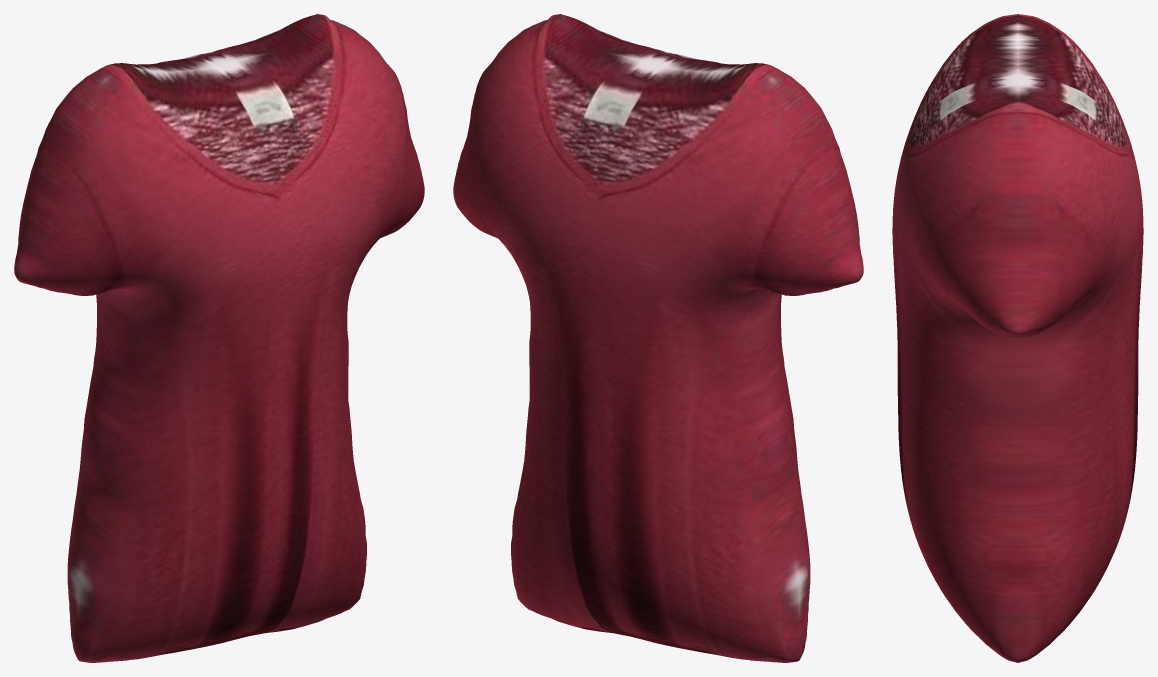
Rendered from AM221D04U-G12@10=cloth_front.glb.
The picture shows the model from 3 angles, left to right: view 1: azimuth 30°, elevation 25°; view 2: azimuth 150°, elevation 25°; view 3: azimuth 270°, elevation 25°; orthographic projection. The views are drawn at different scales.
Size of the model in its own units: 4.51 by 6.34 by 2.62.
Materials: 1 (1 with a texture image).
